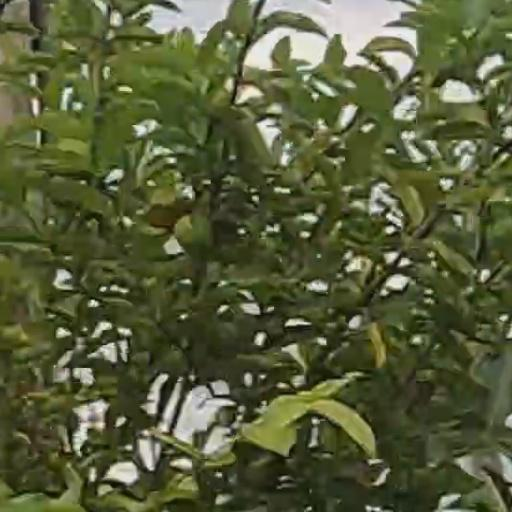acerola_verde: (175, 214, 211, 250)
